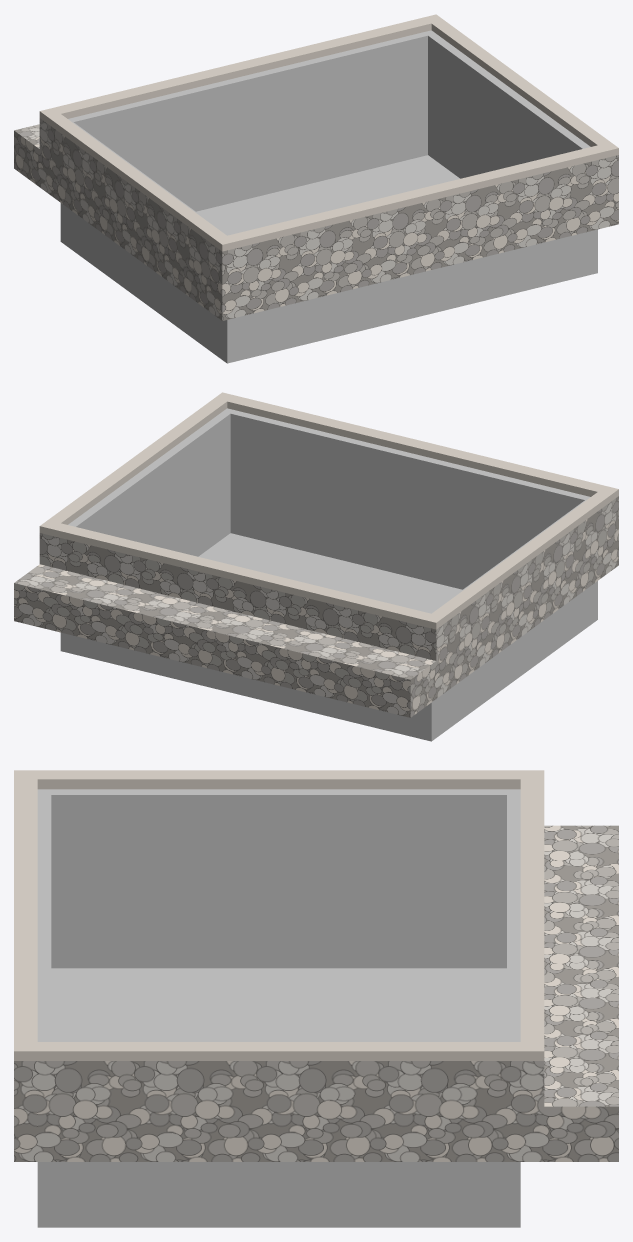
File: poi09_pileta_piscicultura_preview.glb
3 renders of one model, top to bottom at view 1: azimuth 30°, elevation 25°; view 2: azimuth 150°, elevation 25°; view 3: azimuth 270°, elevation 25°, orthographic. The views are drawn at different scales.
Visible parts, largest first — view 1: vaso_4_58x3_56_prof_1_51, borde_piedra_bola_recto, remate_concreto, muro_piedra_indicativo; view 2: vaso_4_58x3_56_prof_1_51, muro_piedra_indicativo, borde_piedra_bola_recto, remate_concreto; view 3: vaso_4_58x3_56_prof_1_51, borde_piedra_bola_recto, remate_concreto, muro_piedra_indicativo.
Part boxes in pixels (bbox=[...]): vaso_4_58x3_56_prof_1_51: bbox=[60, 30, 597, 363]; borde_piedra_bola_recto: bbox=[39, 118, 618, 320]; remate_concreto: bbox=[39, 14, 618, 251]; muro_piedra_indicativo: bbox=[14, 124, 39, 186]; vaso_4_58x3_56_prof_1_51: bbox=[60, 408, 597, 741]; muro_piedra_indicativo: bbox=[14, 564, 436, 717]; borde_piedra_bola_recto: bbox=[39, 496, 618, 698]; remate_concreto: bbox=[39, 392, 618, 629]; vaso_4_58x3_56_prof_1_51: bbox=[37, 789, 520, 1227]; borde_piedra_bola_recto: bbox=[14, 1061, 544, 1161]; remate_concreto: bbox=[14, 770, 544, 1060]; muro_piedra_indicativo: bbox=[544, 825, 618, 1161].
Bounding box in the file's own units: 4.9 × 1.51 × 4.46.
Materials: 3 (1 with a texture image).
